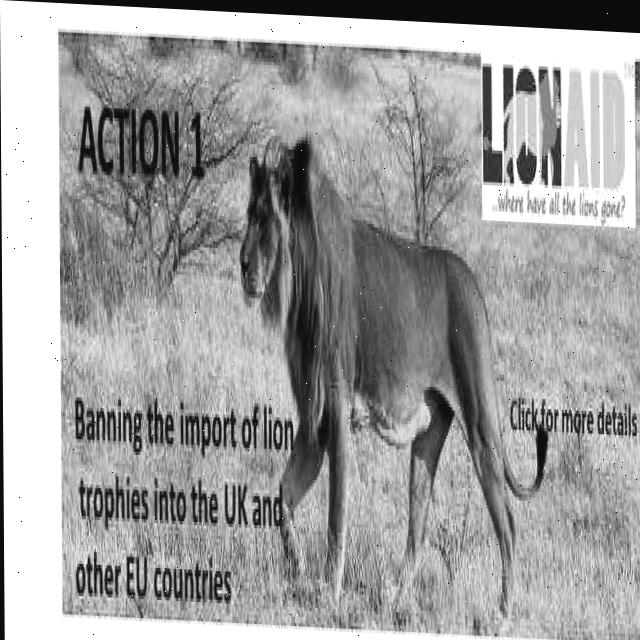Lion: (244, 139, 361, 389)
